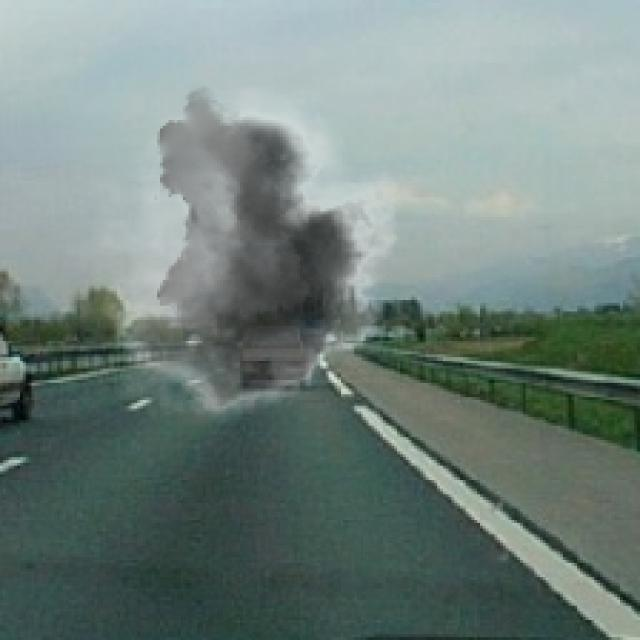smoke: (63, 86, 417, 437)
